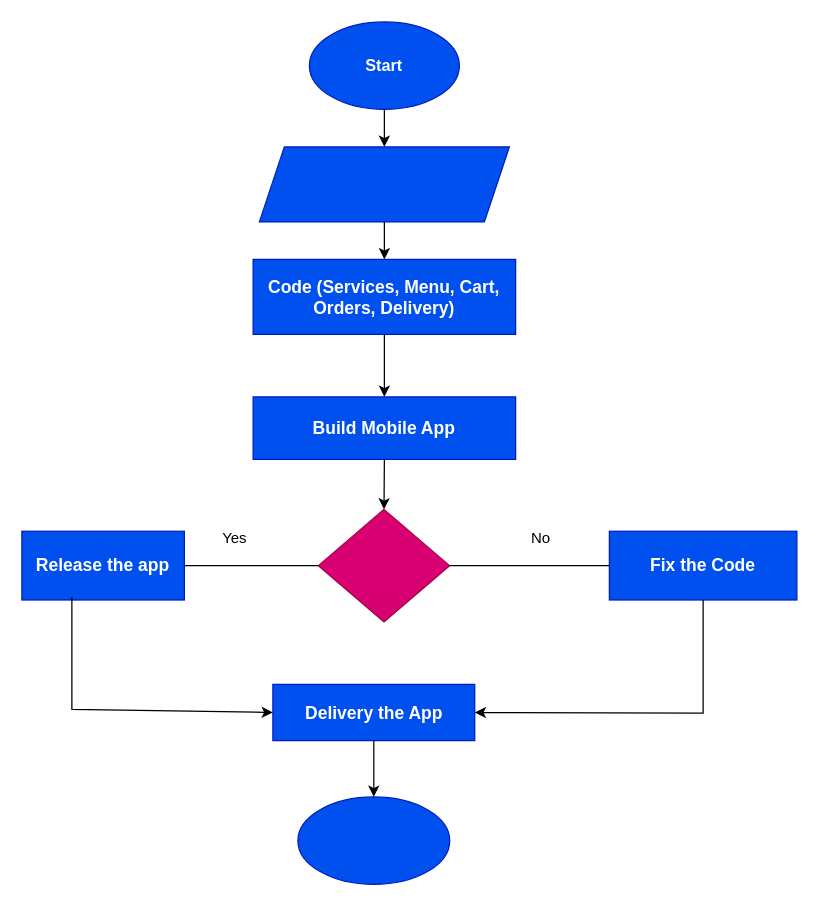
Some shapes in this 819 by 906 pixel diagram are drawn without their labels. The centre of each missing label's shape, as x and y in pixels:
"End" belongs at (373,840).
"Plan Features (Search, Orders, Delivery)" belongs at (383,184).
"Test Passed" belongs at (383,565).
